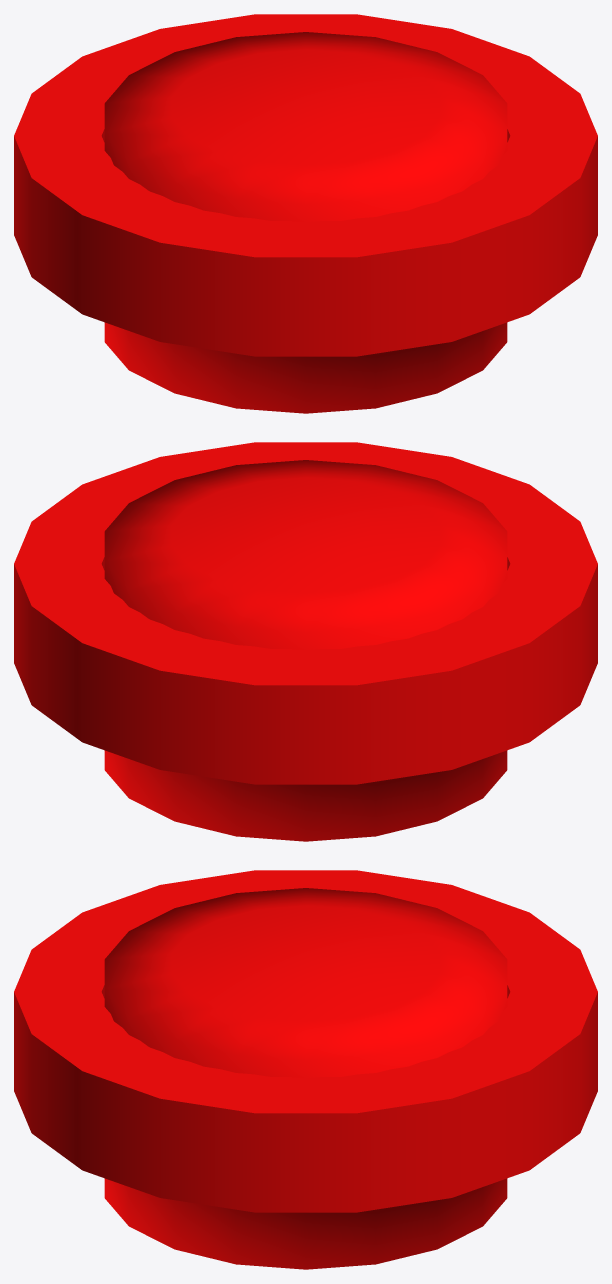
File: roundbutton.FBX
3 renders of one model, top to bottom at view 1: azimuth 30°, elevation 25°; view 2: azimuth 150°, elevation 25°; view 3: azimuth 270°, elevation 25°, orthographic.
Parts seen in each view (by area): view 1: btn ROUNDFITTING, buttonROUND; view 2: btn ROUNDFITTING, buttonROUND; view 3: btn ROUNDFITTING, buttonROUND.
Part boxes in pixels (x1,y1,x2,y2): btn ROUNDFITTING: [14, 14, 597, 356]; buttonROUND: [104, 32, 507, 413]; btn ROUNDFITTING: [14, 442, 597, 784]; buttonROUND: [104, 460, 507, 841]; btn ROUNDFITTING: [14, 870, 597, 1212]; buttonROUND: [104, 888, 507, 1269].
Size of the model in its own units: 0.0197 by 0.00871 by 0.02.
